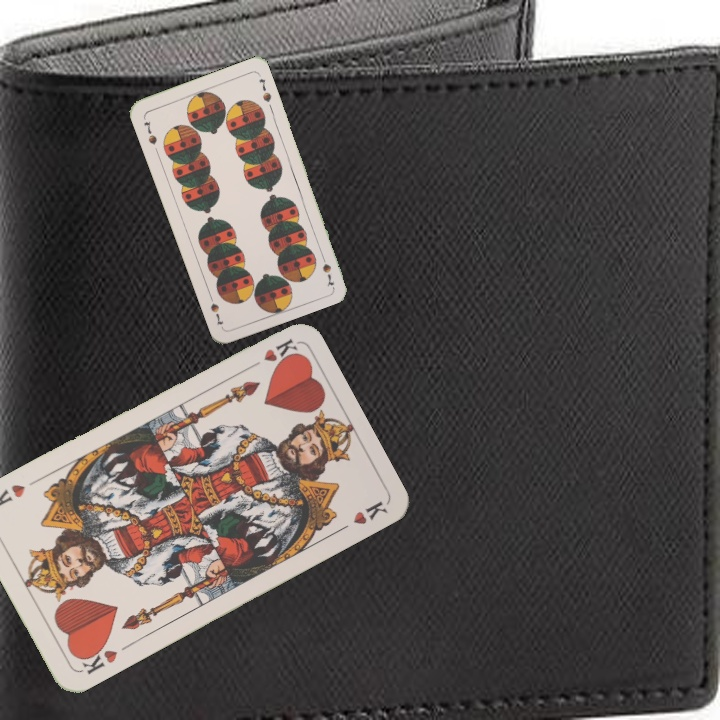HK: (242, 334, 300, 373), (74, 640, 120, 677)
S7: (316, 249, 337, 288), (140, 117, 160, 147)
